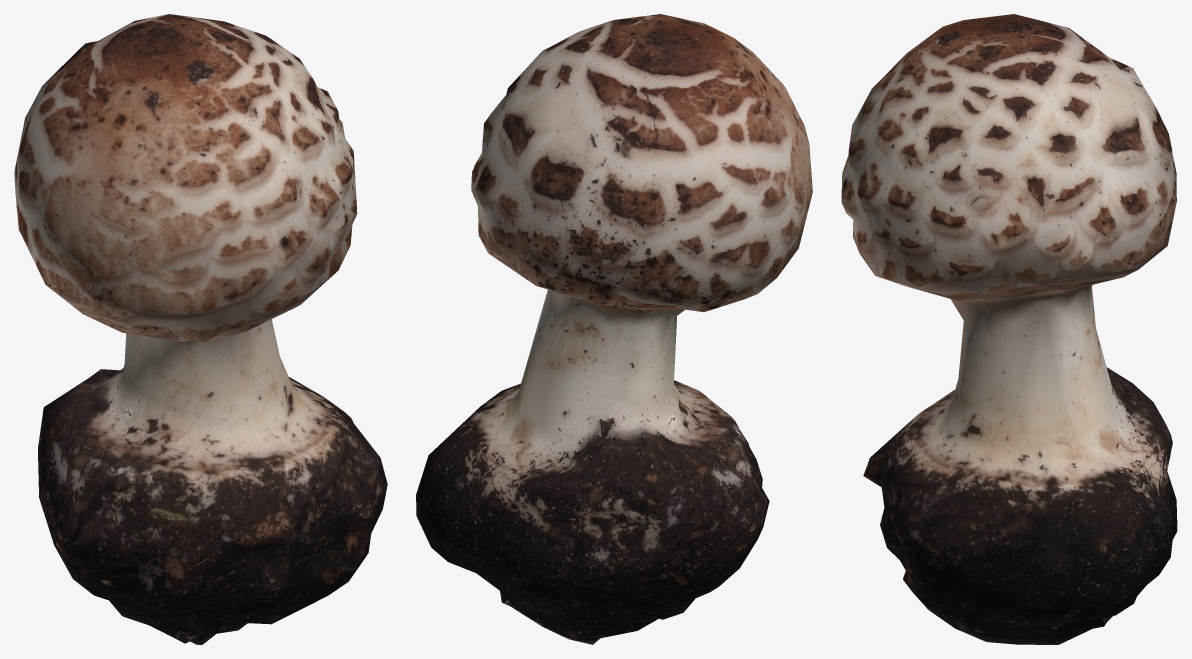
Rendered from lapiote-deguenille.glb.
3 renders of one model, left to right at view 1: azimuth 30°, elevation 25°; view 2: azimuth 150°, elevation 25°; view 3: azimuth 270°, elevation 25°, orthographic. The views are drawn at different scales.
Visible parts, largest first — view 1: mushroom_12; view 2: mushroom_12; view 3: mushroom_12.
Part boxes in pixels (x1=…): mushroom_12: x1=14, y1=14, x2=387, y2=644; mushroom_12: x1=416, y1=14, x2=812, y2=644; mushroom_12: x1=841, y1=14, x2=1177, y2=644.
Size of the model in its own units: 3.29 by 5.85 by 3.04.
1 material, 1 textured.
